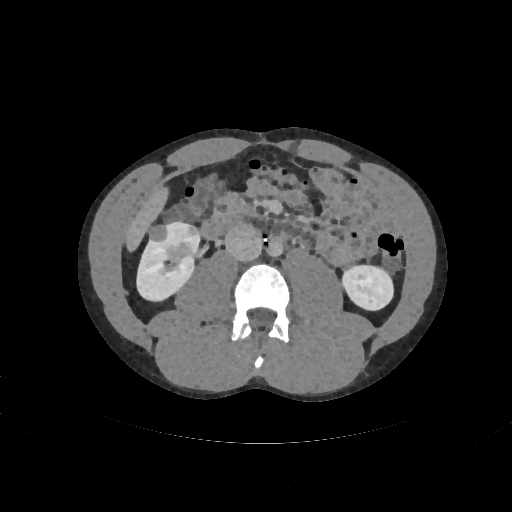Lesion: (143, 220, 171, 244)
